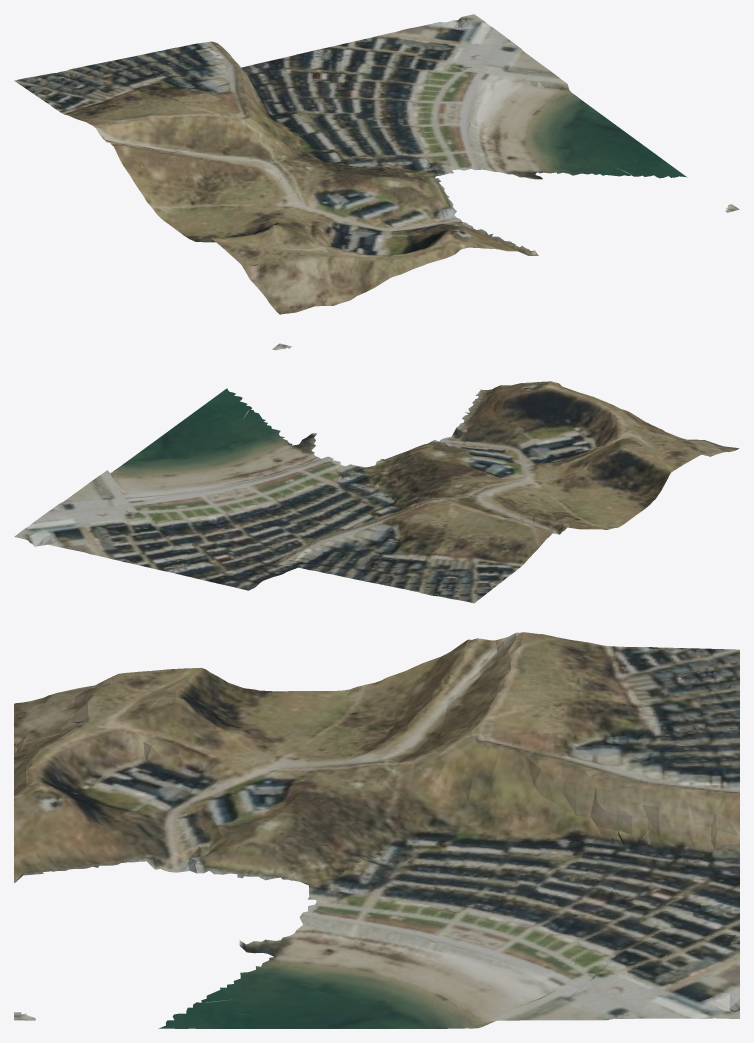
3 renders of one model, top to bottom at view 1: azimuth 30°, elevation 25°; view 2: azimuth 150°, elevation 25°; view 3: azimuth 270°, elevation 25°, orthographic. The views are drawn at different scales.
Size of the model in its own units: 418 by 57.25 by 418.
Materials: 2 (2 with a texture image).
